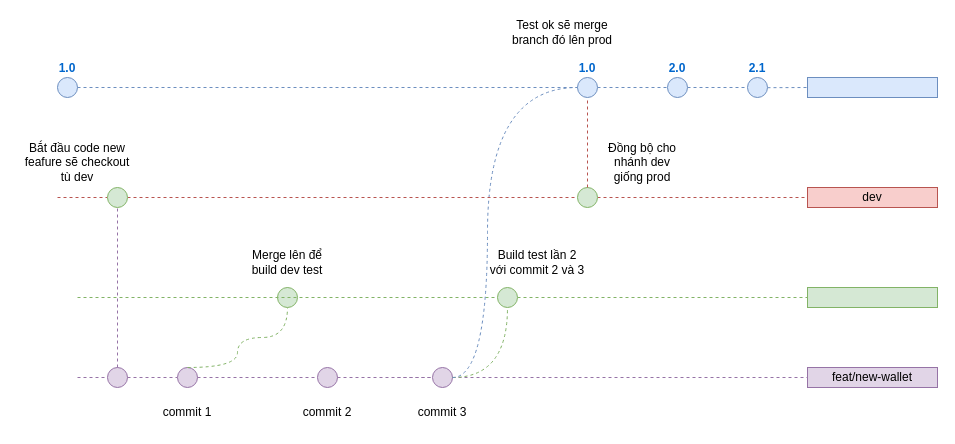
This 955x444 diagram has some shape labels left out. The box of each missing label's shape, as (x1, y1, x2, y2) in pixels:
build-dev: (806, 286, 938, 308)
realse/production: (806, 76, 938, 98)
